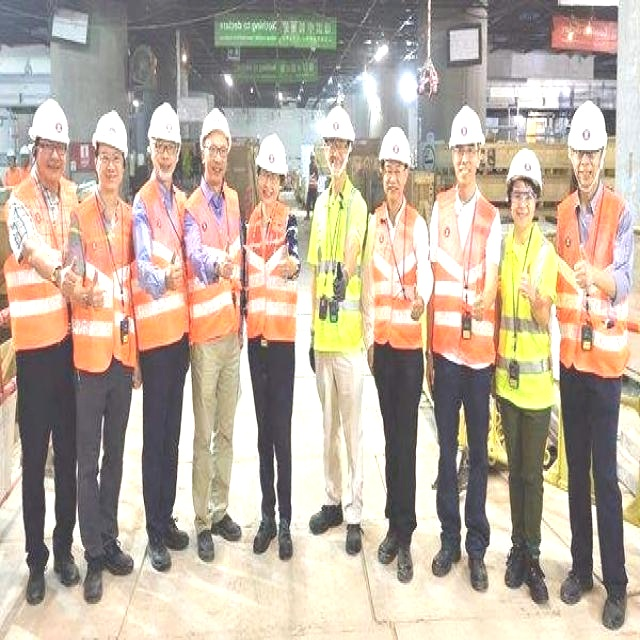Con_Casco: (378, 126, 413, 200), (322, 103, 354, 178), (256, 135, 288, 202)
Con_Chaleco: (309, 185, 366, 346), (367, 203, 426, 346), (243, 201, 296, 341)
